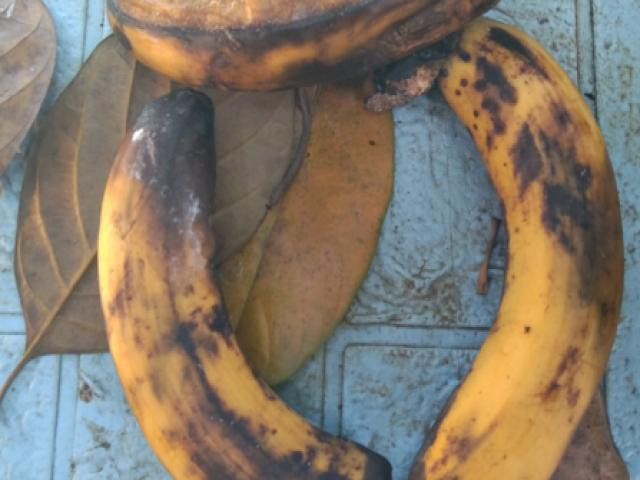overripe: (398, 28, 639, 479)
rotten: (85, 103, 387, 479), (105, 0, 508, 90)
